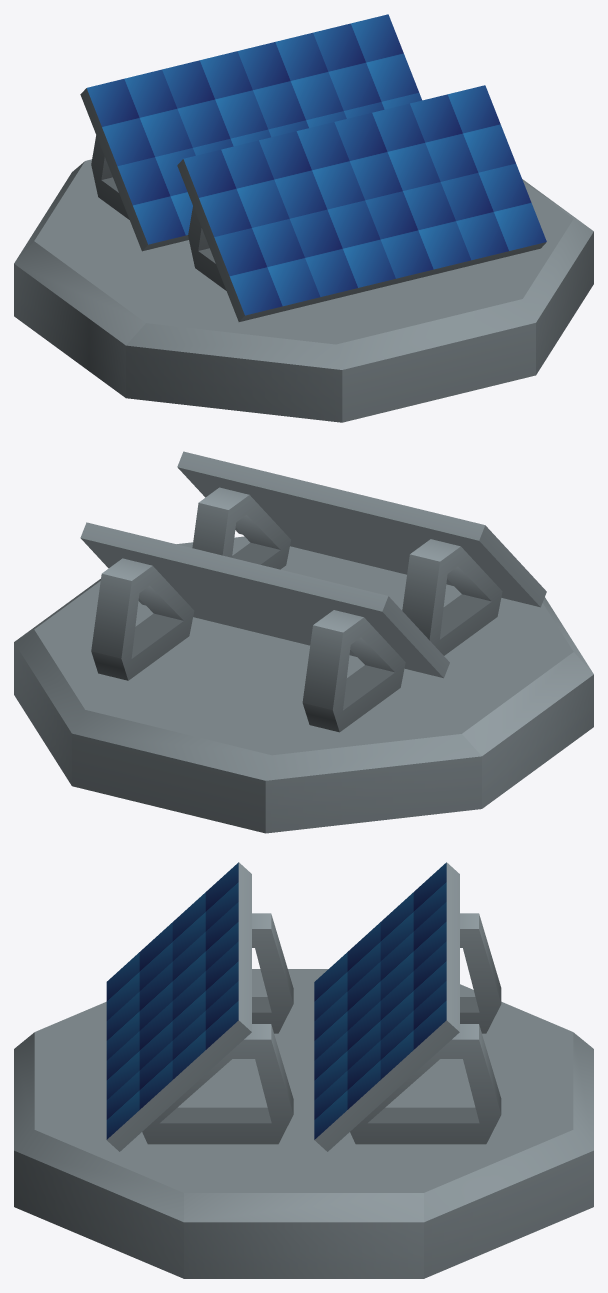
The model's file is solar.glb.
3 renders of one model, top to bottom at view 1: azimuth 30°, elevation 25°; view 2: azimuth 150°, elevation 25°; view 3: azimuth 270°, elevation 25°, orthographic. The views are drawn at different scales.
Parts seen in each view (by area): view 1: roofmodule_solarpanels; view 2: roofmodule_solarpanels; view 3: roofmodule_solarpanels.
Boxes of the visible parts, bbox=[...] form: roofmodule_solarpanels: bbox=[14, 14, 593, 422]; roofmodule_solarpanels: bbox=[14, 451, 593, 833]; roofmodule_solarpanels: bbox=[14, 862, 593, 1278].
Bounding box in the file's own units: 1.4 × 0.571 × 1.4.
1 material, 1 textured.
